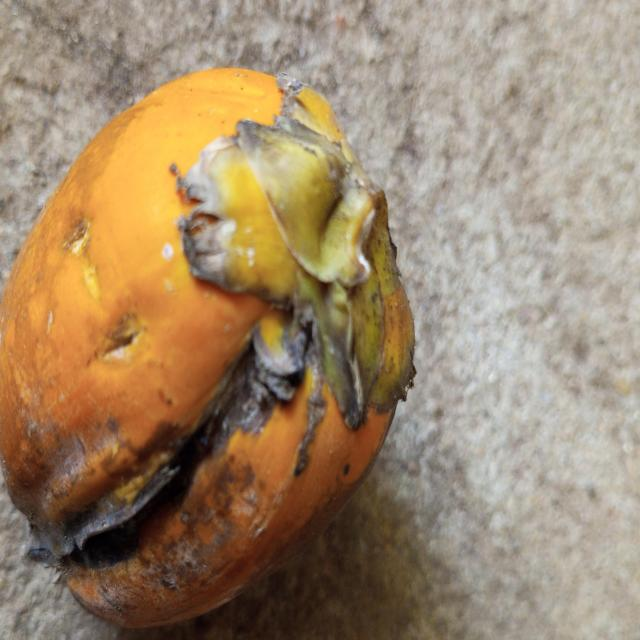damaged: (0, 69, 414, 625)
